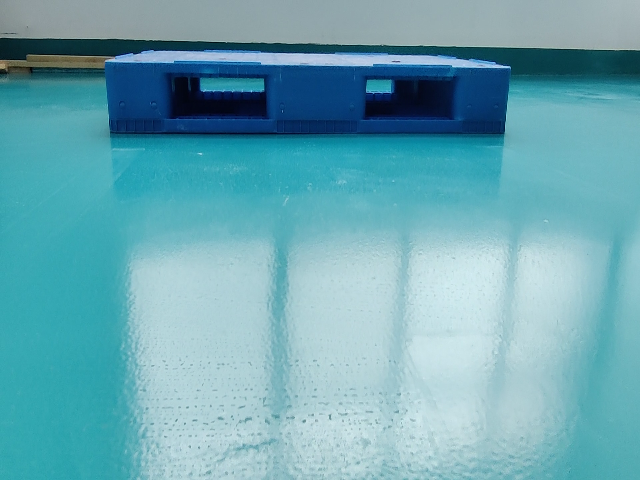block: (267, 64, 363, 131), (103, 61, 171, 132), (452, 68, 508, 142)
